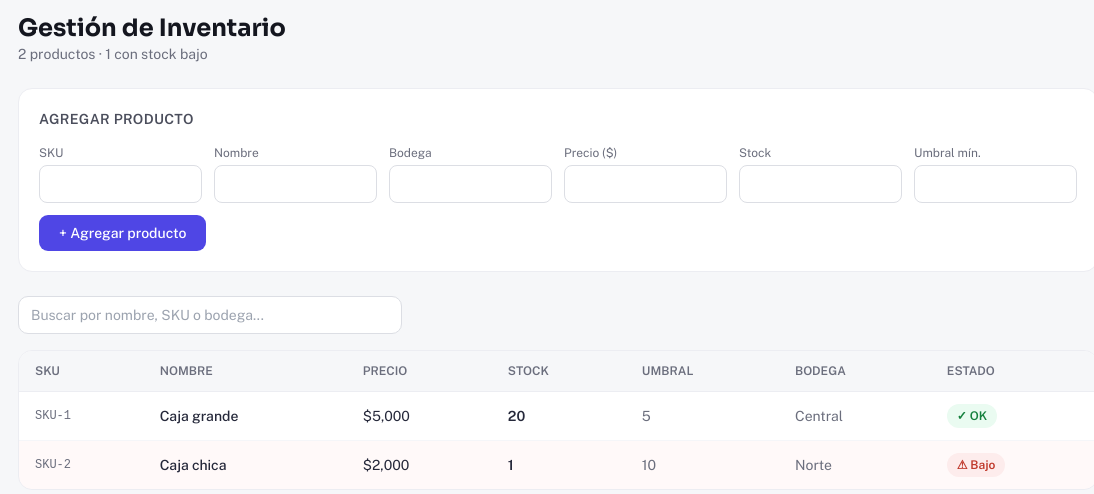
Scenario: Inventario › filters the table by search text across nombre, sku and bodega
The image size is (1094, 494).
Check: the text "Caja grande" is shown, box [144, 392, 347, 440]
Type "norte" into the field with placeholder "Buscar por nombre, SKU o bodega...".
click(210, 315); type("norte")  # box [18, 296, 402, 334]
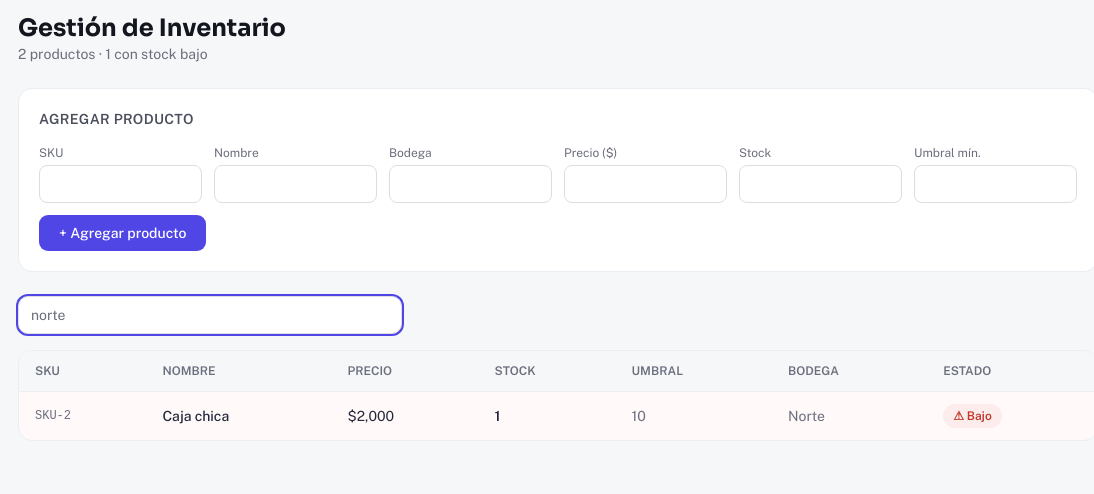
Check: the text "Caja chica" is shown, box [146, 392, 332, 440]
Check: the text "Caja grande" is gone
